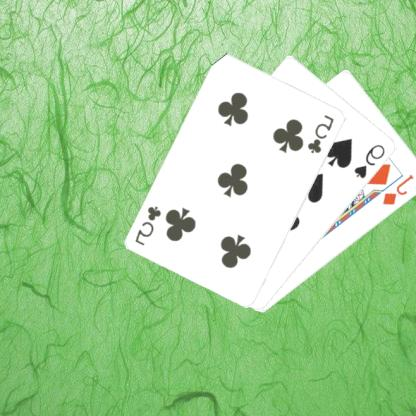5C: (134, 202, 165, 247), (307, 111, 338, 155)
9S: (353, 141, 389, 180)
JD: (382, 171, 416, 207)
